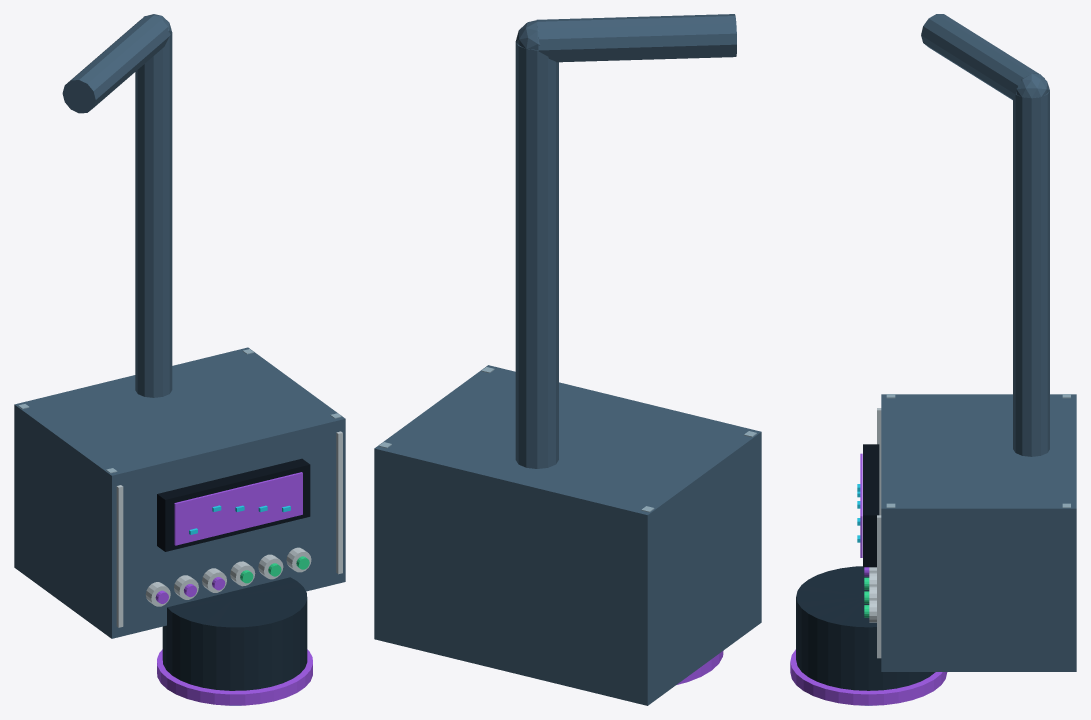
Rendered from 28_L79_FiducialOpticalCameraB.fbx.
The picture shows the model from 3 angles, left to right: view 1: azimuth 30°, elevation 25°; view 2: azimuth 150°, elevation 25°; view 3: azimuth 270°, elevation 25°; orthographic projection. The views are drawn at different scales.
Parts seen in each view (by area): view 1: FiducialOpticalCameraB; view 2: FiducialOpticalCameraB; view 3: FiducialOpticalCameraB.
Part boxes in pixels (x1,y1,x2,y2): FiducialOpticalCameraB: (14,14,345,705); FiducialOpticalCameraB: (374,14,761,705); FiducialOpticalCameraB: (790,14,1076,705).
Size of the model in its own units: 115 by 270 by 114.
